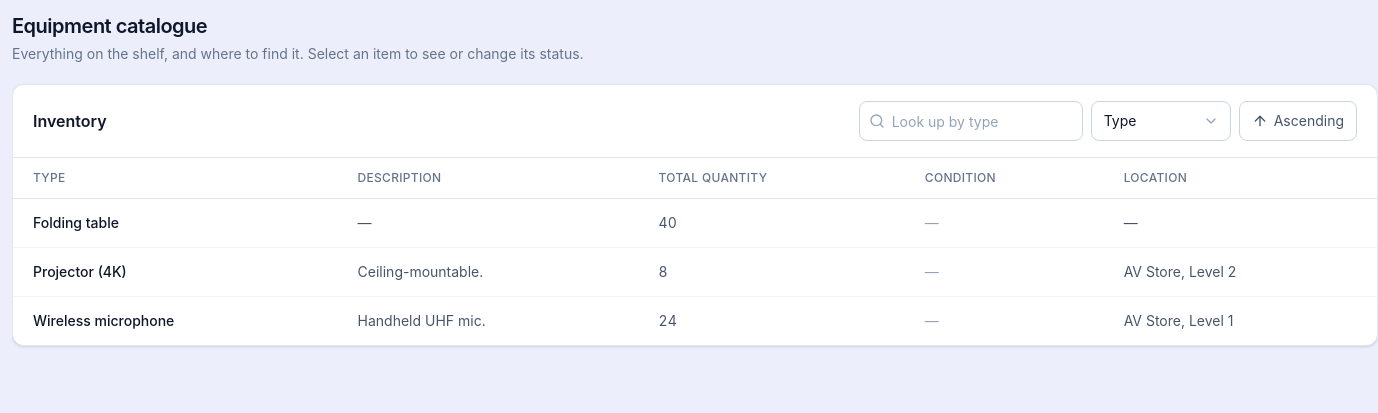
Test: US-28 AC-3: an item can be found without scrolling › says so when nothing matches the lookup
Expected: the link "Folding table" is shown, [33,214,119,231]
In the search field named "Look up equipment by type": (971, 121) [859,101,1083,141], type "zzz"
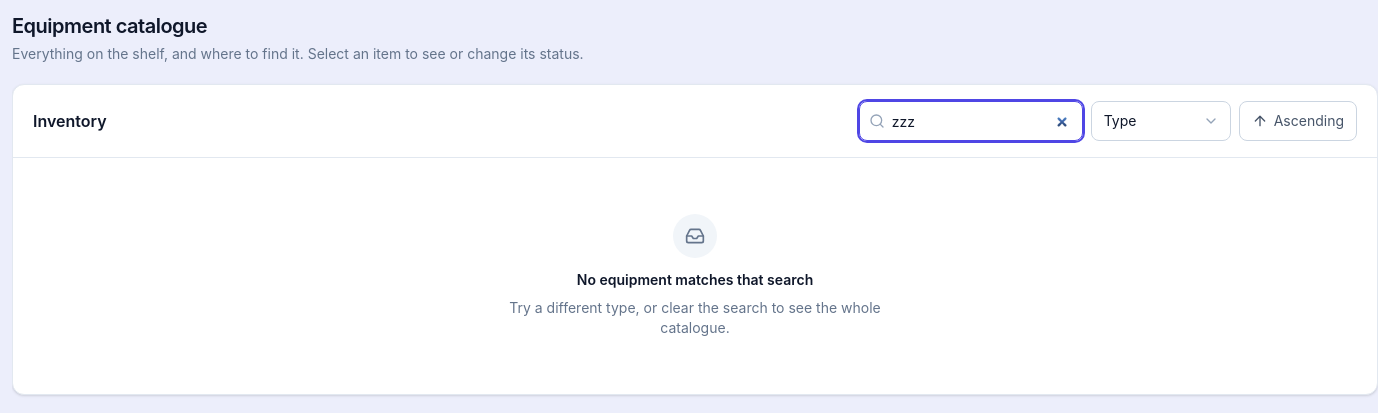
Result: the heading "No equipment matches that search" is shown at [577,270,813,290]
